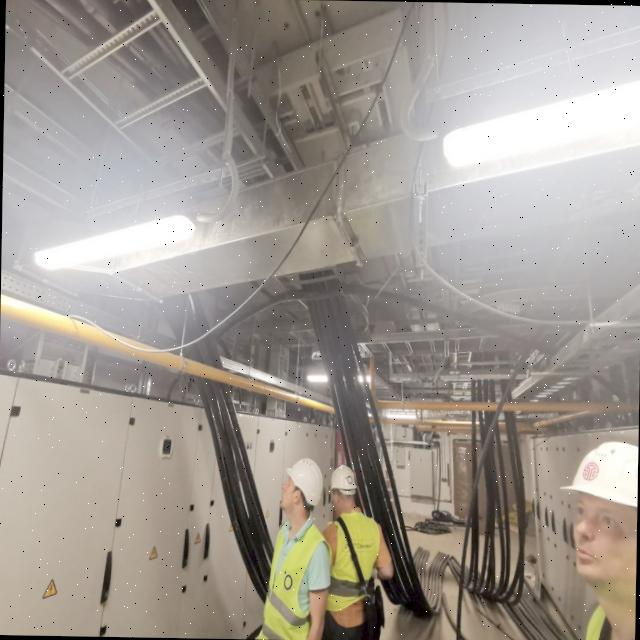Helmet: (555, 437, 639, 602), (278, 458, 325, 524), (329, 466, 360, 514)
